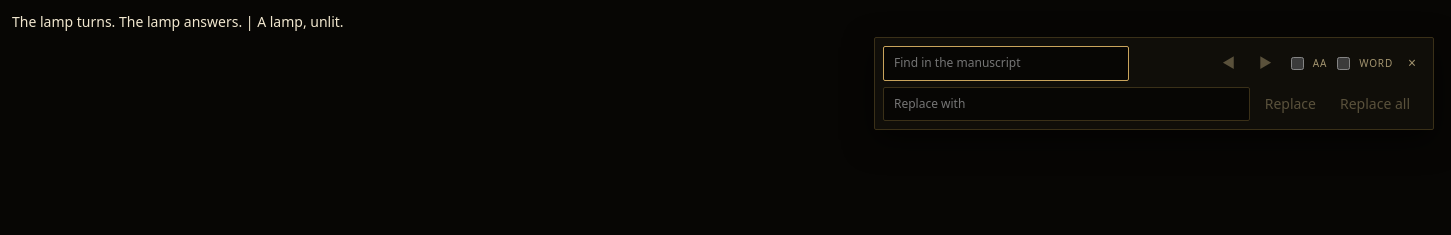
Test: find and replace › counts what it found and steps through it, taking the selection along
Type "lamp" into the search field labelled "Find" at point(1006, 63), box [883,46,1129,81]
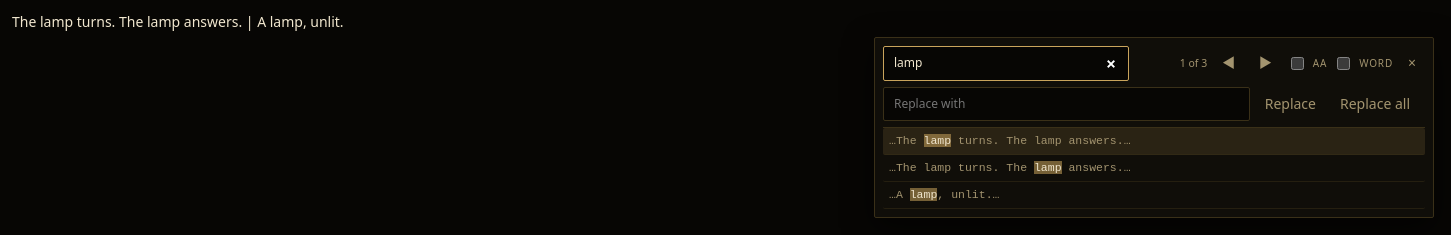
Result: the text "1 of 3" is shown at [1180,56,1207,70]
Click the button named "Next match" at point(1265, 63), box [1250,48,1281,79]
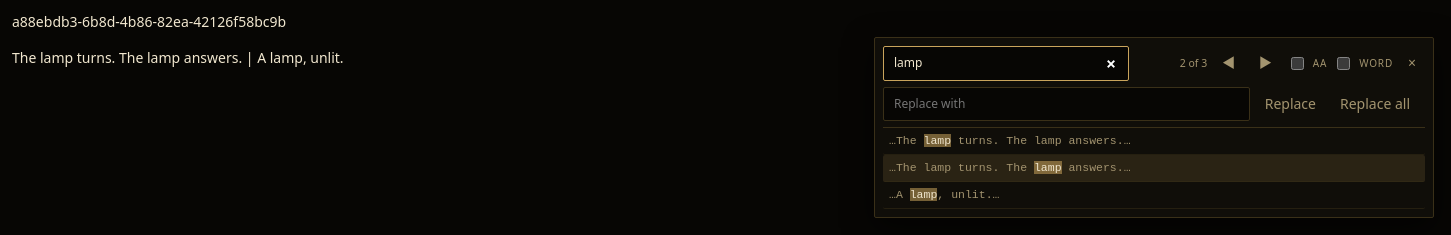
Result: the text "2 of 3" is shown at [1180,56,1207,70]
// The third match is in the other beat, and going to it selects that beat.
Click the button named "Next match" at point(1265, 63), box [1250,48,1281,79]
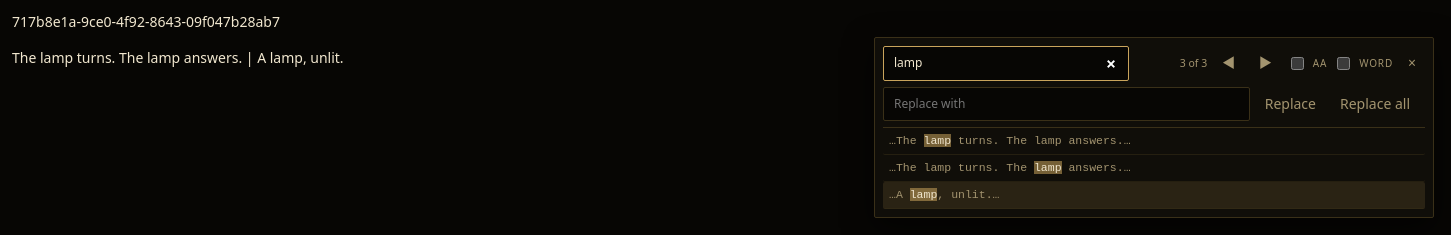
Expected: the element with test id "went" does not show ""
Result: the text "3 of 3" is shown at [1180,56,1207,70]
